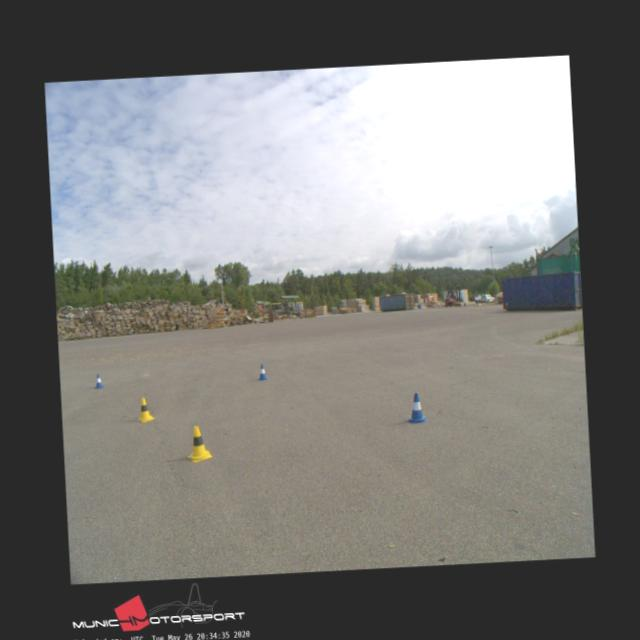blue_cone: (405, 392, 427, 423), (94, 374, 104, 388), (258, 364, 266, 379)
yellow_cone: (187, 425, 212, 462), (136, 397, 155, 423)
